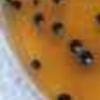black: (77, 47, 96, 68), (49, 19, 66, 39), (67, 37, 84, 57), (28, 55, 43, 75), (52, 88, 75, 100), (31, 11, 45, 28), (9, 0, 24, 12), (92, 12, 100, 27), (48, 0, 63, 6), (0, 0, 14, 6), (29, 0, 41, 7)
